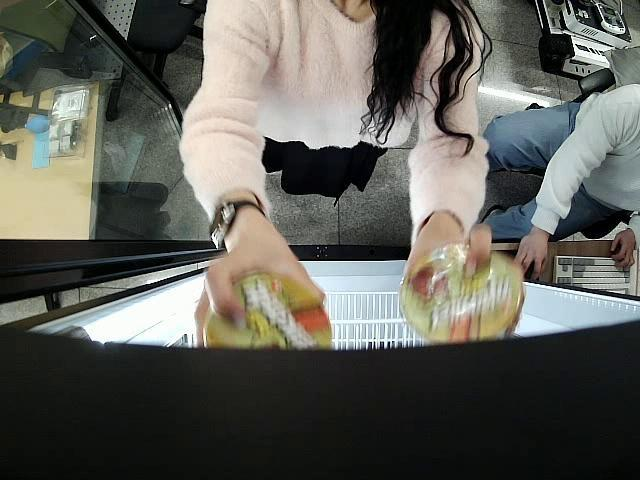04_chapagetti_S: (401, 244, 524, 342), (200, 272, 332, 352)
